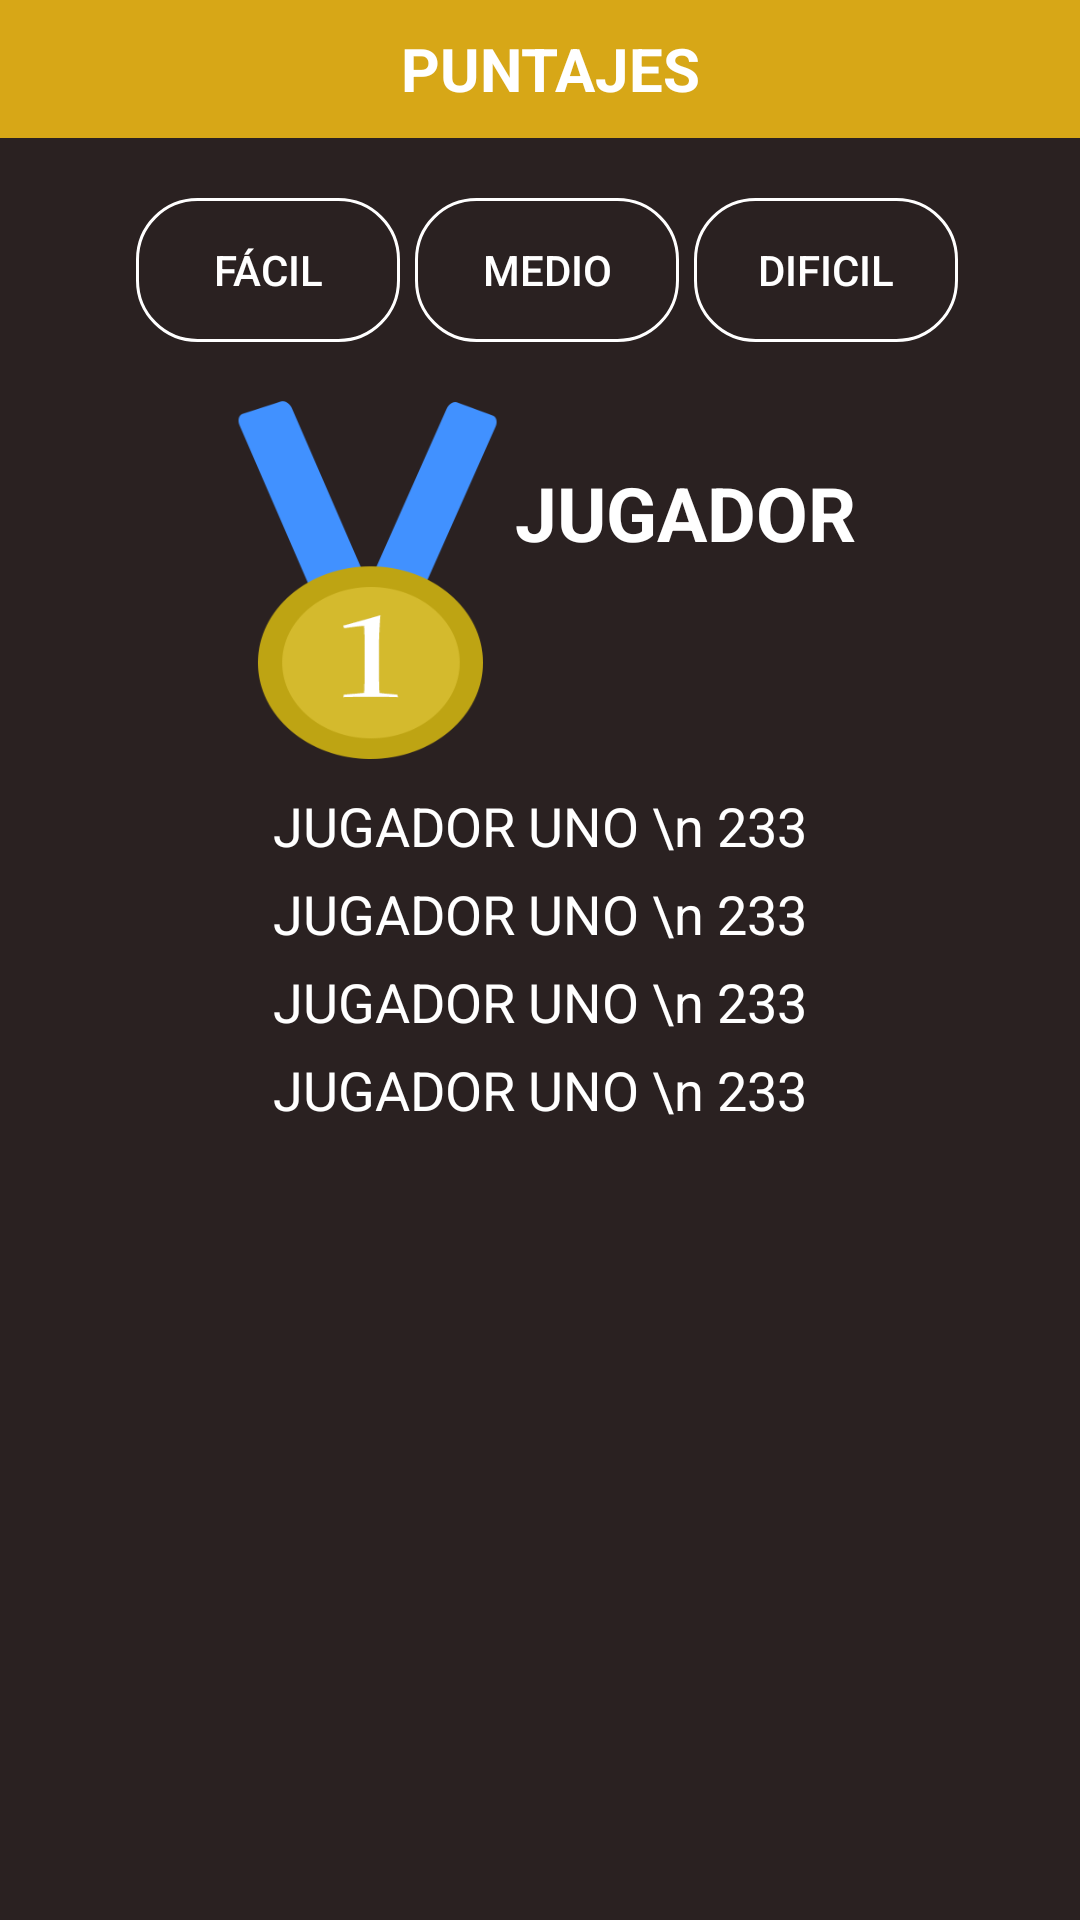

Icon click points for this 1080*1920 phone screenshot, format (x,y):
medalla: (367,580)
